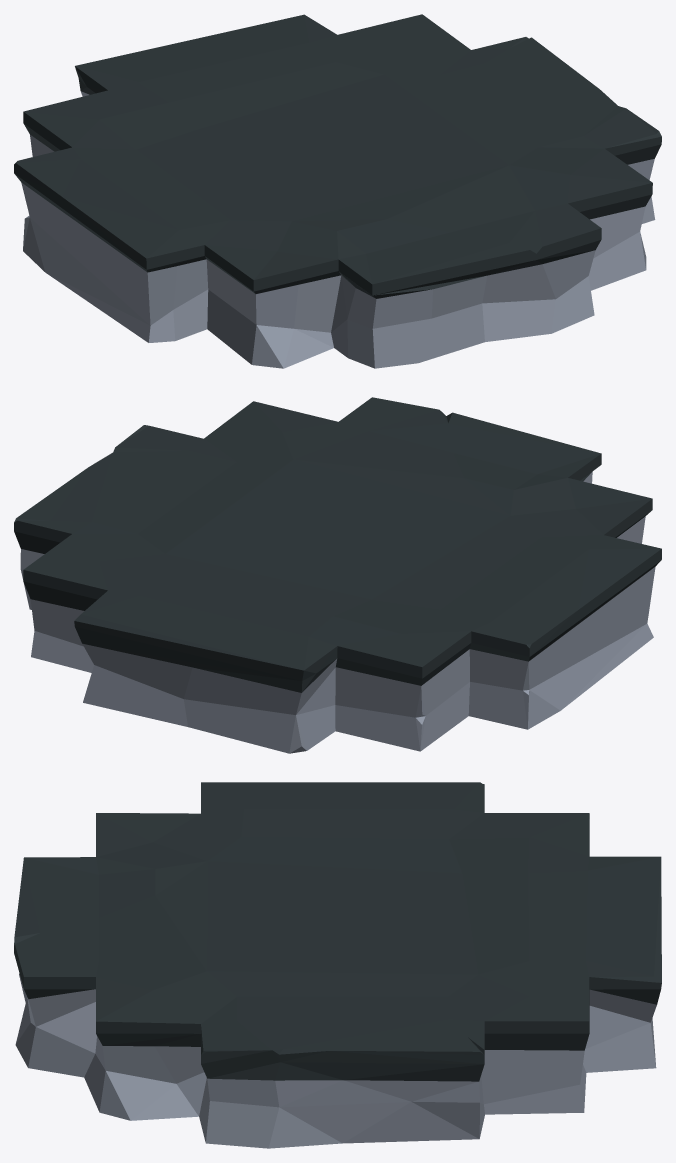
Rendered from Temple  Terrain_3.fbx.
3 renders of one model, top to bottom at view 1: azimuth 30°, elevation 25°; view 2: azimuth 150°, elevation 25°; view 3: azimuth 270°, elevation 25°, orthographic. The views are drawn at different scales.
Parts seen in each view (by area): view 1: Temple Terrain_3; view 2: Temple Terrain_3; view 3: Temple Terrain_3.
Part boxes in pixels (x1,y1,x2,y2): Temple Terrain_3: (14, 14, 661, 368); Temple Terrain_3: (14, 397, 661, 753); Temple Terrain_3: (14, 782, 661, 1148).
Bounding box in the file's own units: 12.78 × 2.15 × 12.88.
